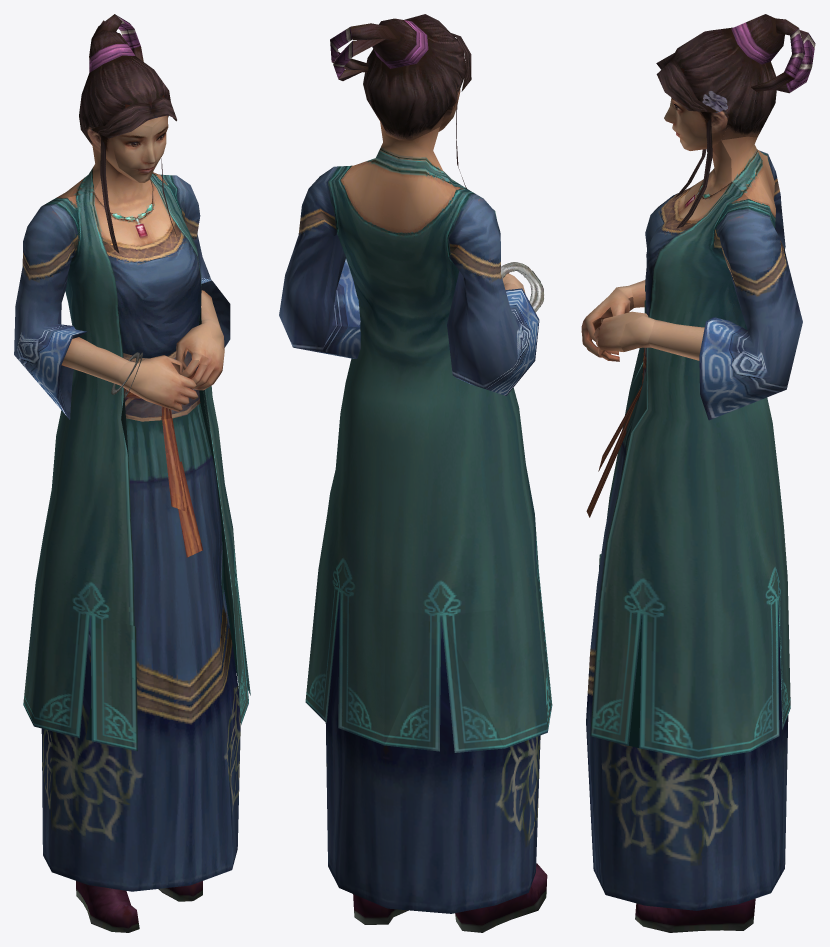
Rendered from CaiFeng.FBX.
The picture shows the model from 3 angles, left to right: view 1: azimuth 30°, elevation 25°; view 2: azimuth 150°, elevation 25°; view 3: azimuth 270°, elevation 25°; orthographic projection. The views are drawn at different scales.
Parts seen in each view (by area): view 1: DrawCall_0733, DrawCall_0442, DrawCall_0734; view 2: DrawCall_0733, DrawCall_0442, DrawCall_0734; view 3: DrawCall_0733, DrawCall_0442, DrawCall_0734.
Part boxes in pixels (bbox=[...]): DrawCall_0733: bbox=[14, 145, 250, 932]; DrawCall_0442: bbox=[79, 14, 176, 253]; DrawCall_0734: bbox=[176, 322, 224, 390]; DrawCall_0733: bbox=[279, 115, 552, 932]; DrawCall_0442: bbox=[330, 14, 471, 188]; DrawCall_0734: bbox=[384, 615, 504, 747]; DrawCall_0733: bbox=[581, 128, 802, 932]; DrawCall_0442: bbox=[656, 14, 815, 228]; DrawCall_0734: bbox=[593, 311, 648, 361].
Size of the model in its own units: 47.62 by 182 by 43.12.
